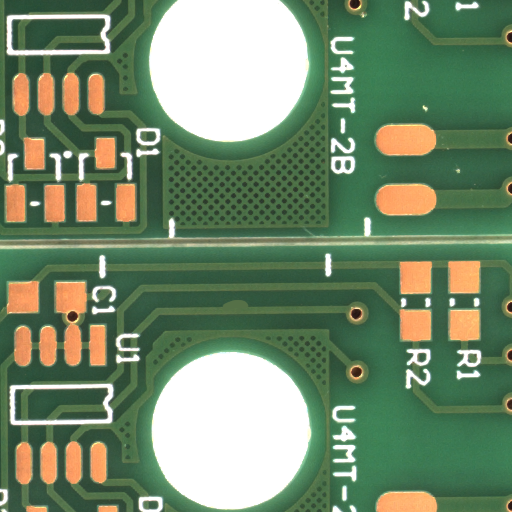Spur: (234, 304, 271, 318)
